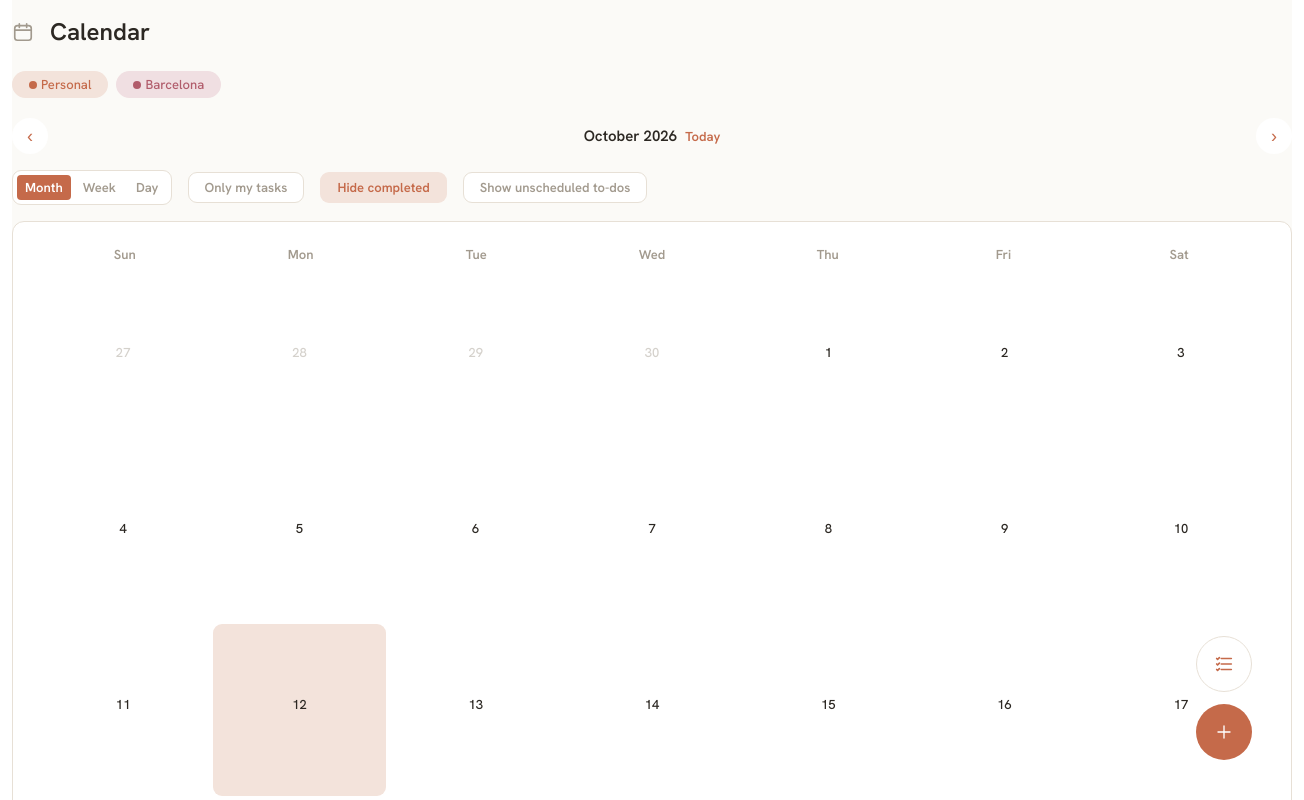
Test: CalendarPage › returning to a tab left open › keeps the month being browsed on a same-day return
Click the button named "Next": [1274, 136] box [1256,118,1292,154]
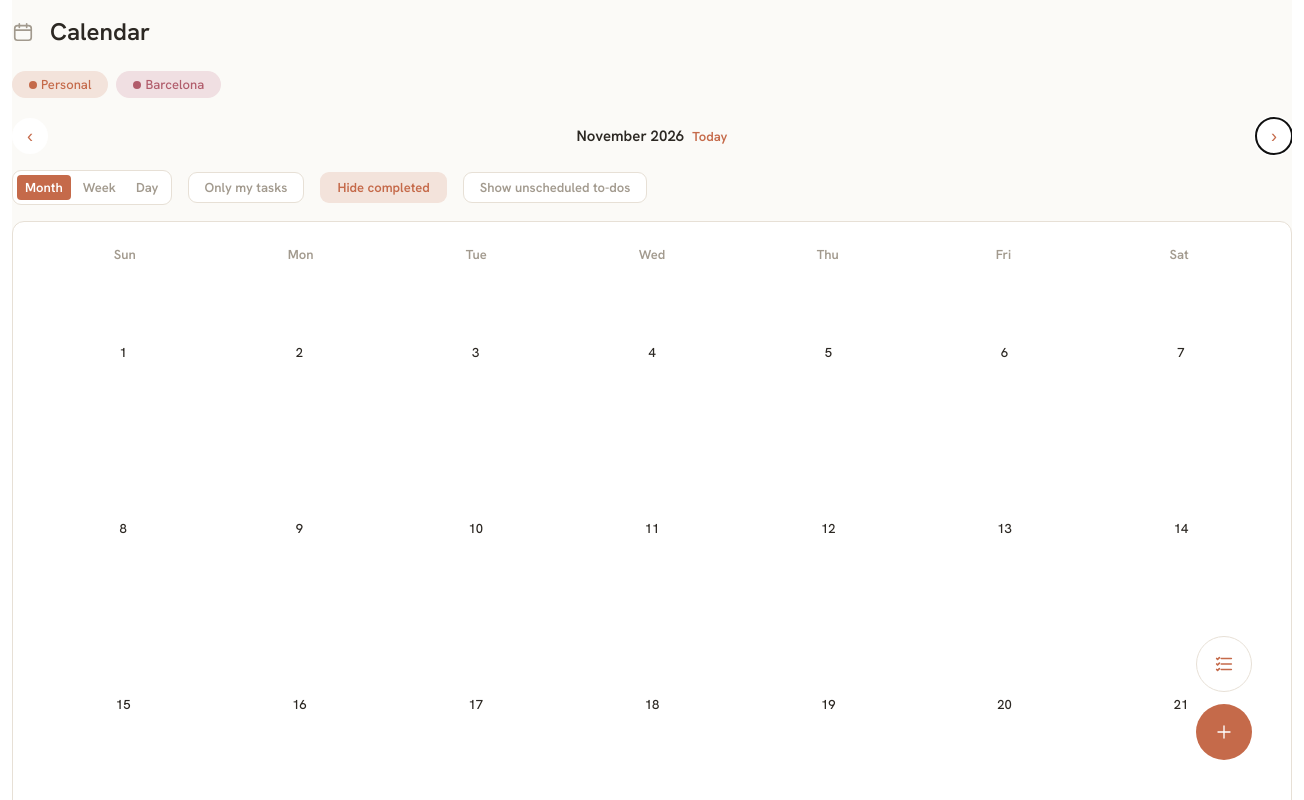
Expected: the text "November 2026" is shown, [577,126,684,146]
